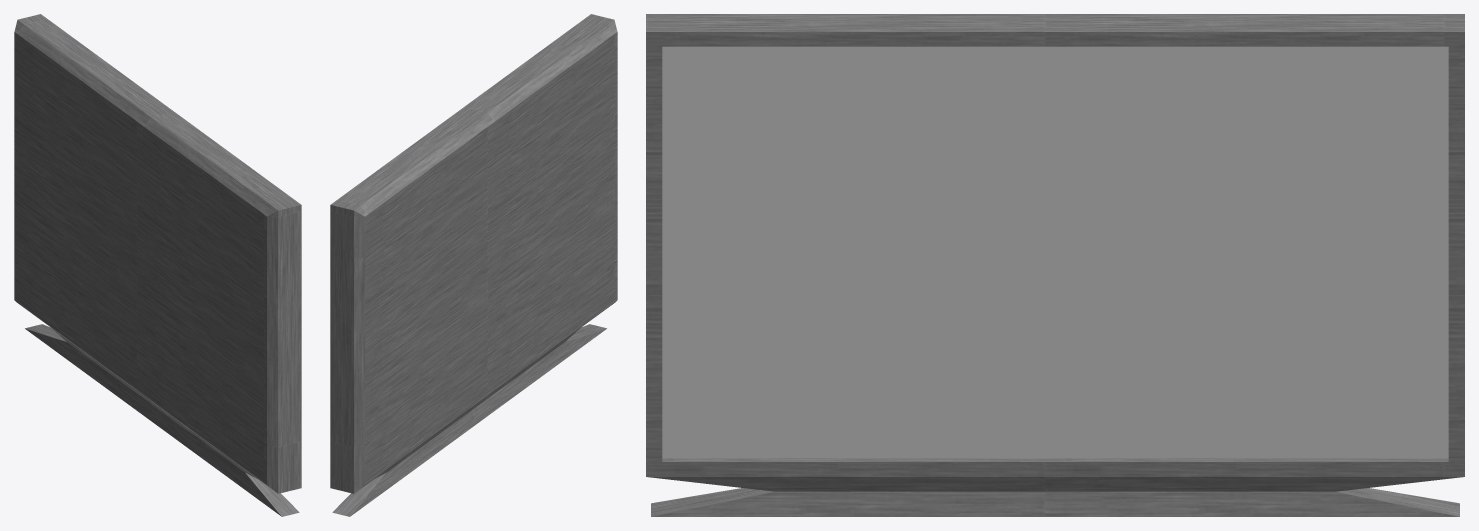
The picture shows the model from 3 angles, left to right: view 1: azimuth 30°, elevation 25°; view 2: azimuth 150°, elevation 25°; view 3: azimuth 270°, elevation 25°; orthographic projection. The views are drawn at different scales.
Visible parts, largest first — view 1: TV; view 2: TV; view 3: TV.
Part boxes in pixels (x1,y1,x2,y2): TV: (14, 14, 301, 516); TV: (330, 14, 617, 516); TV: (646, 14, 1464, 516).
Bounding box in the file's own units: 33.75 × 327 × 500.
